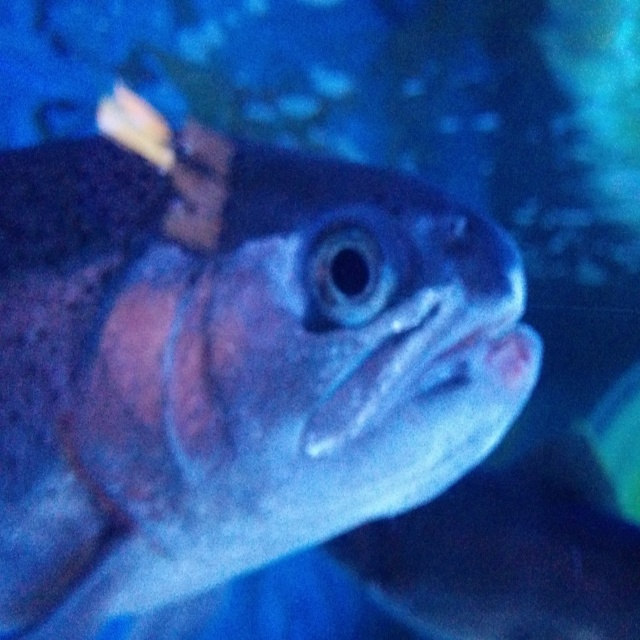Fish: (0, 111, 542, 639)
